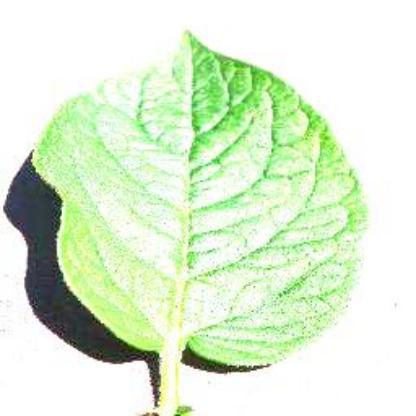Healthy-plant: (24, 26, 372, 412)
